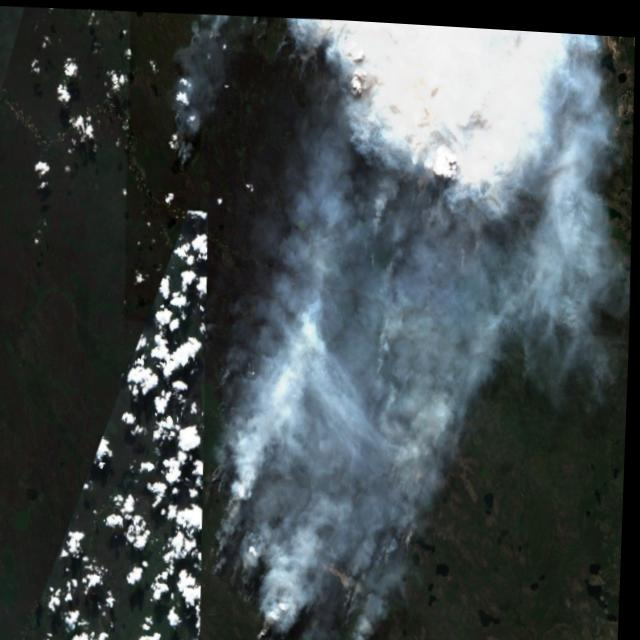fire: (192, 10, 519, 640)
